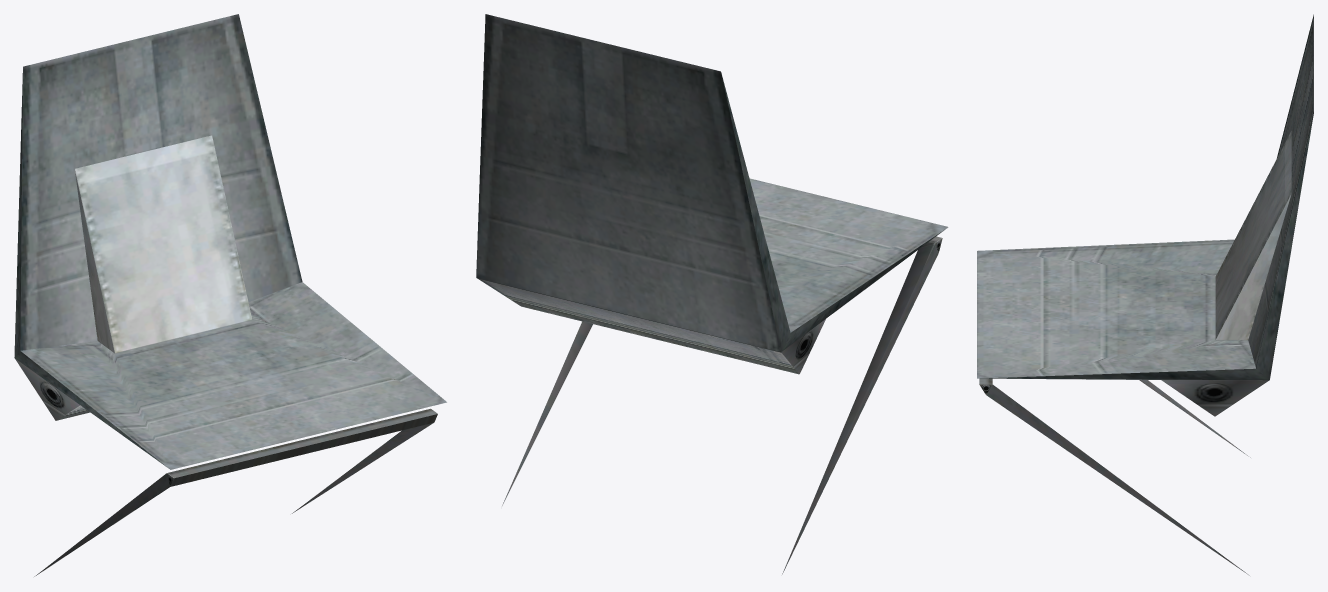
Rendered from eqp_camping_chair_s2_l2.fbx.
3 renders of one model, left to right at view 1: azimuth 30°, elevation 25°; view 2: azimuth 150°, elevation 25°; view 3: azimuth 270°, elevation 25°, orthographic. The views are drawn at different scales.
Visible parts, largest first — view 1: mesh_node; view 2: mesh_node; view 3: mesh_node.
Part boxes in pixels (bbox=[...]): mesh_node: bbox=[14, 14, 446, 576]; mesh_node: bbox=[476, 14, 948, 574]; mesh_node: bbox=[977, 14, 1313, 575].
Bounding box in the file's own units: 0.5209 × 0.8508 × 0.5697.
